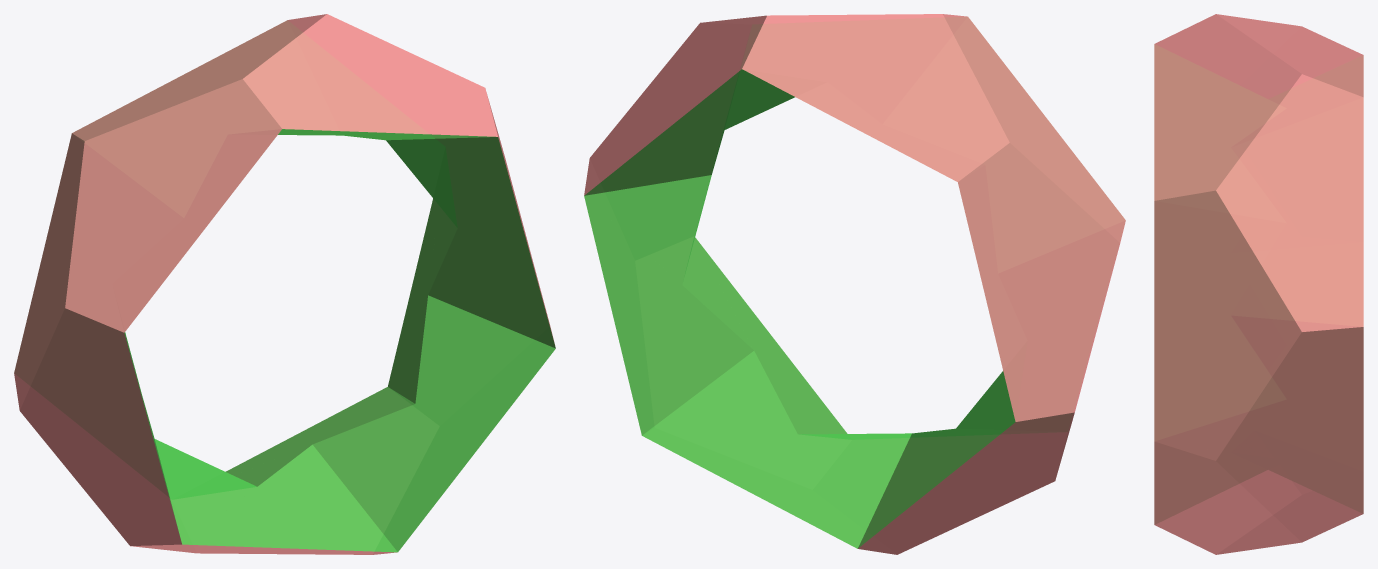
Rendered from HexagonalTrapezohedronToroid.obj.
3 views of the same model, side by side, from view 1: azimuth 30°, elevation 25°; view 2: azimuth 150°, elevation 25°; view 3: azimuth 270°, elevation 25° (orthographic). The views are drawn at different scales.
Bounding box in the file's own units: 2.17 × 2.17 × 0.8556.
